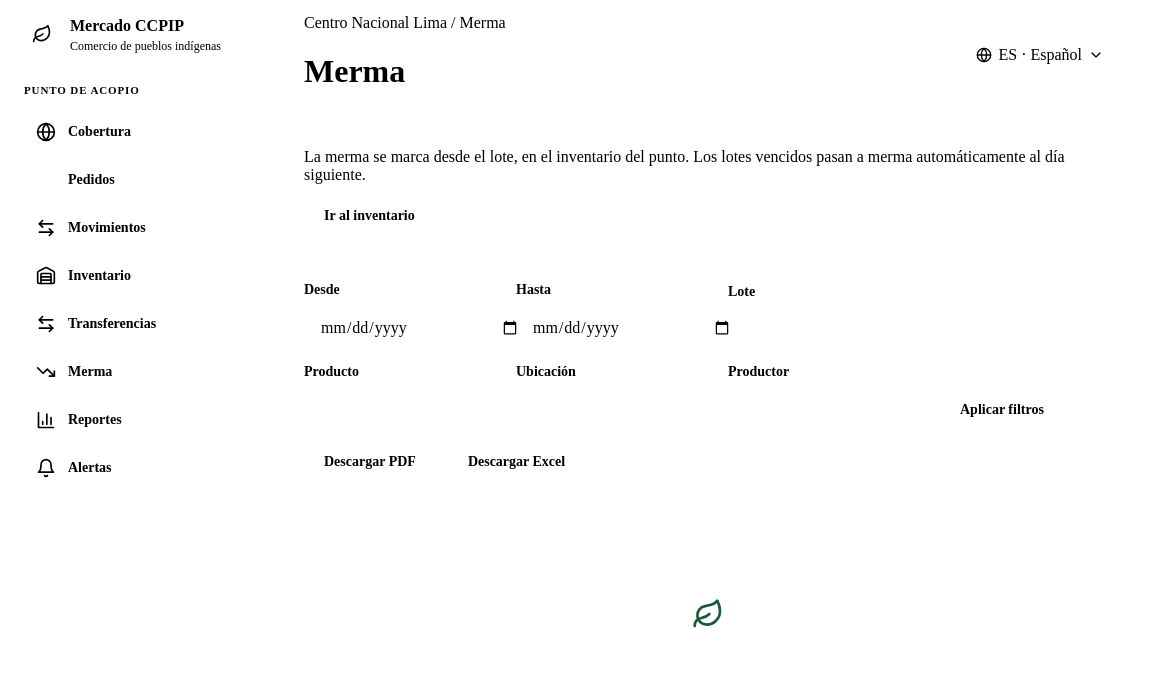
CCPIP-78 Reportes de merma › distingue el estado vacío inicial del vacío después de aplicar filtros
Expected: the text "No hay merma para los filtros seleccionados." is not shown
Type "VACIO" into the field labelled "Lote" at (844, 329), box [728,308,960,350]
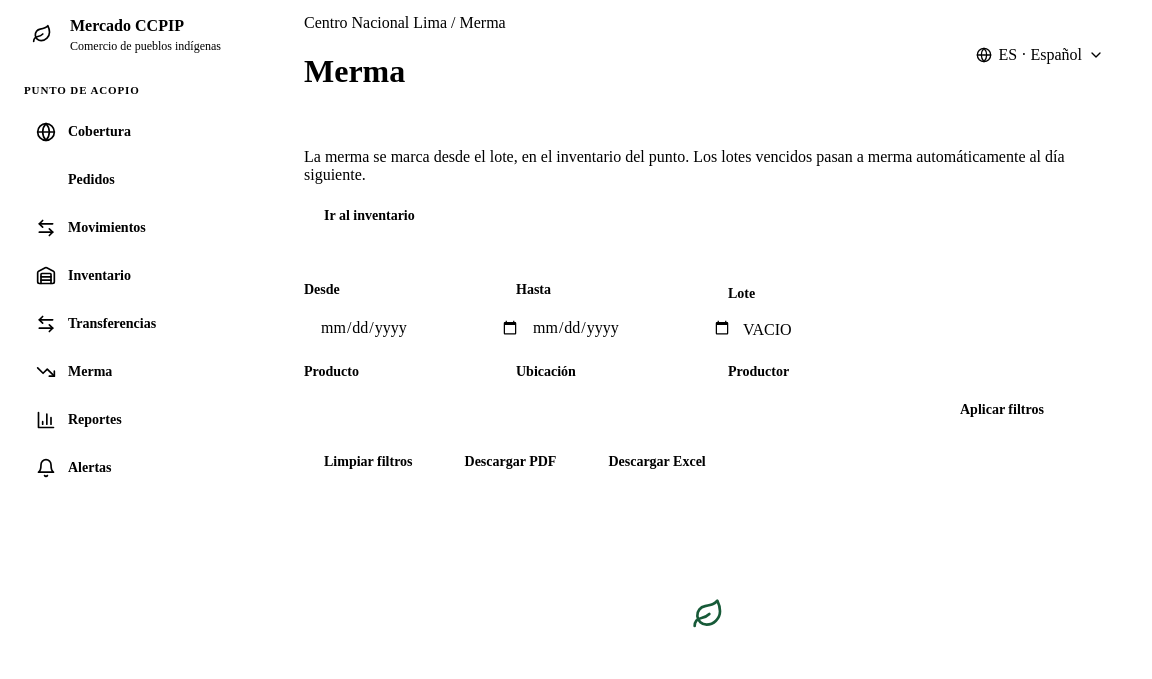
Click the button "Aplicar filtros" at (1002, 410), box [940,390,1064,430]
(page scrolled)
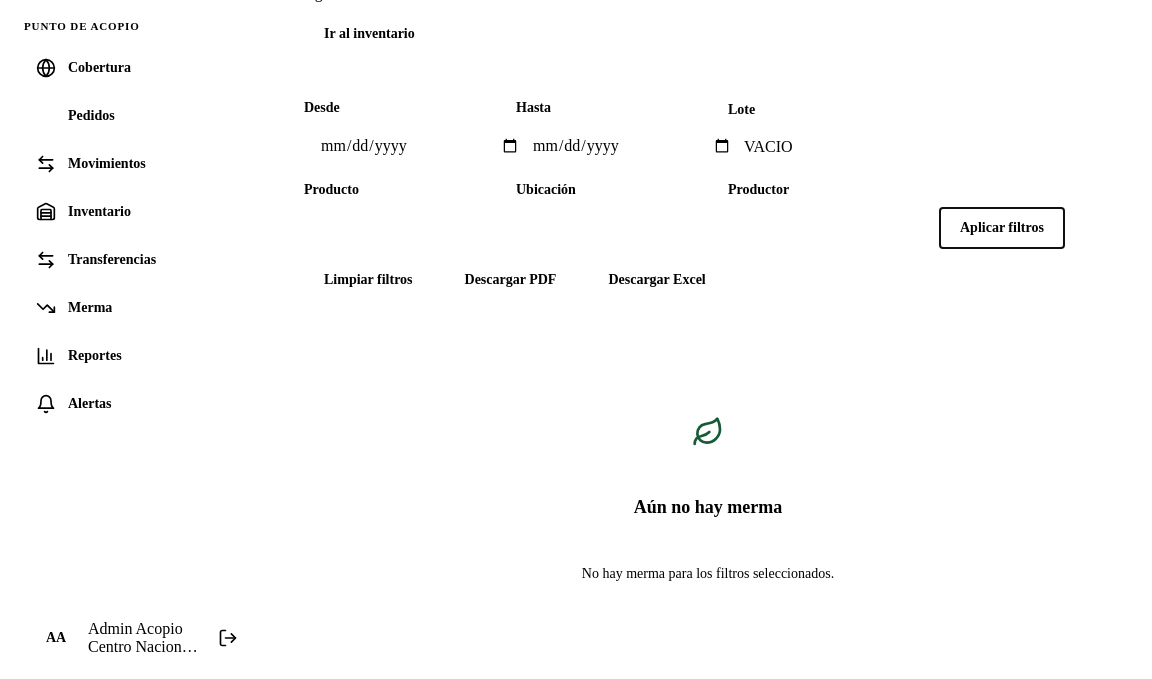
Now the text "No hay merma para los filtros seleccionados." is shown, box [582,564,834,584]
